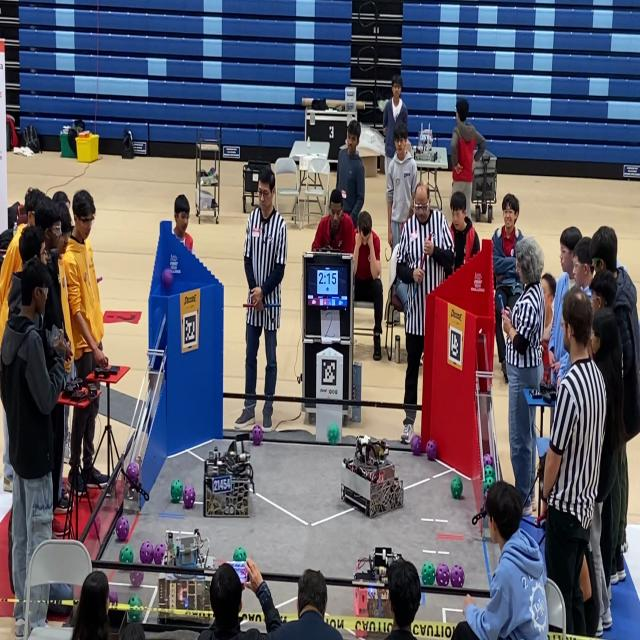artifact_green: (128, 594, 142, 622), (171, 479, 183, 503), (422, 563, 435, 585), (327, 422, 339, 445), (451, 476, 462, 499), (120, 545, 134, 563), (233, 547, 246, 561), (483, 477, 494, 491), (484, 466, 495, 479), (109, 590, 118, 605), (483, 454, 494, 465), (483, 491, 486, 510)
artifact_purple: (116, 516, 129, 542), (436, 563, 450, 587), (140, 541, 154, 564), (183, 485, 196, 509), (450, 565, 464, 587), (88, 515, 100, 539), (126, 462, 139, 483), (154, 543, 166, 565), (251, 425, 263, 446), (426, 440, 437, 461), (410, 434, 421, 455), (162, 268, 173, 288), (130, 571, 143, 587), (109, 591, 118, 605), (483, 454, 493, 466), (483, 490, 487, 507)
